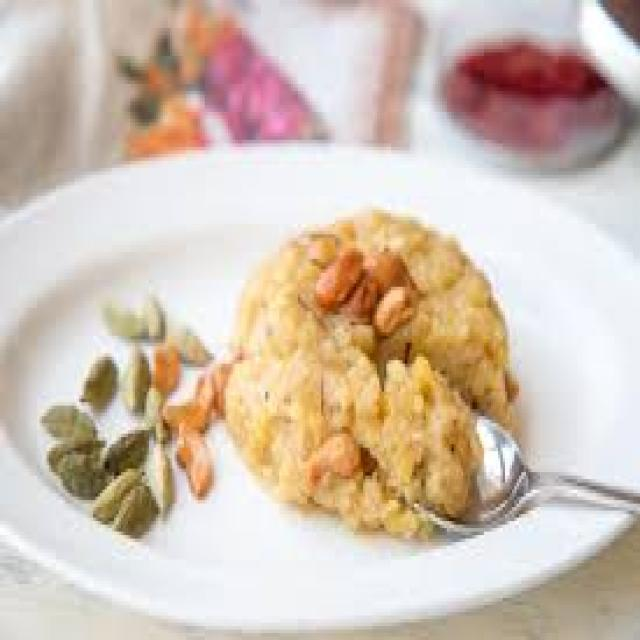papad: (405, 248, 514, 412)
rice: (356, 345, 481, 539)
sweet: (147, 337, 191, 400)
